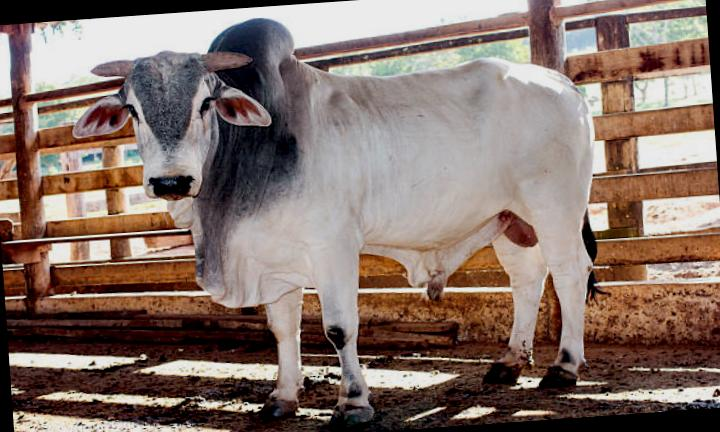Brahman: (75, 19, 594, 425)
